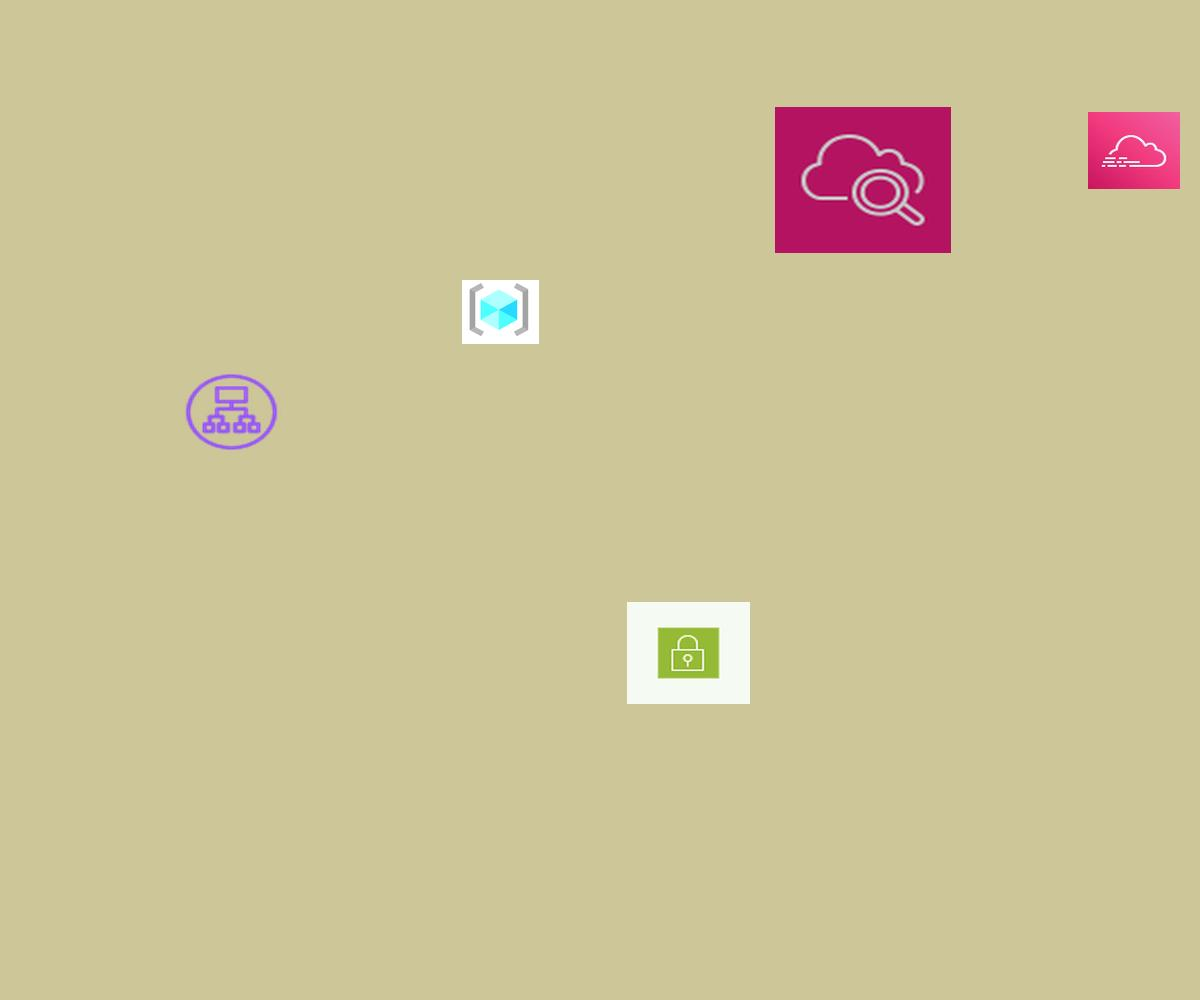AWS-CloudTrail: (1088, 112, 1180, 189)
AWS-CloudWatch: (775, 107, 951, 253)
AWS-Public-subnet: (627, 602, 750, 704)
AWS-Res_Elastic-Load-Balancing_Application-Load-Balancer: (182, 371, 281, 453)
Azure_resource_group: (462, 280, 539, 344)
